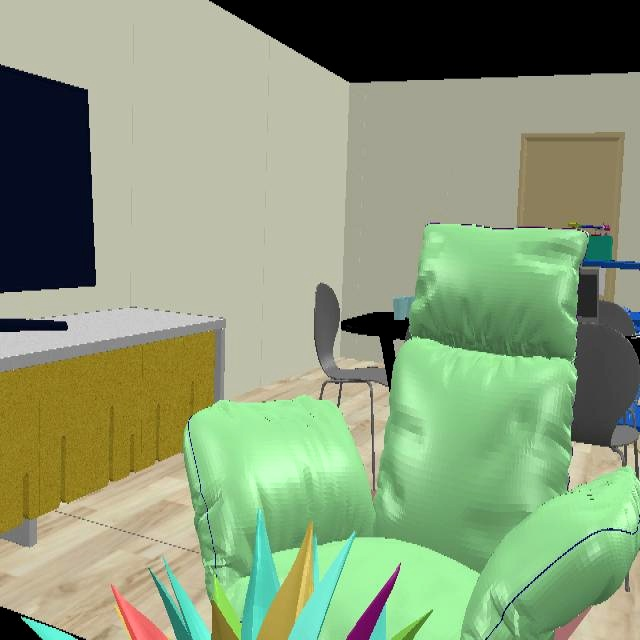chair: (571, 320, 640, 447), (314, 283, 391, 388)
laptop: (580, 272, 602, 320)
monitor: (0, 67, 97, 295)
sofa: (191, 224, 640, 640)
